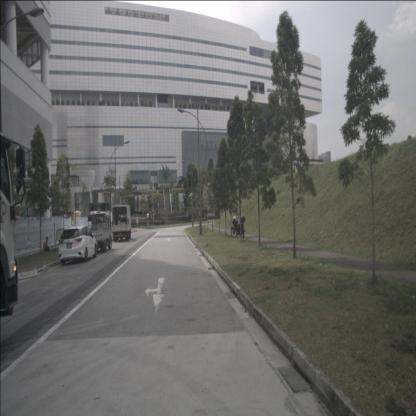vehicle-car: (58, 225, 98, 266)
vehicle-motorcycle: (230, 215, 245, 239)
vehicle-truck: (87, 213, 112, 253), (111, 204, 131, 242)
